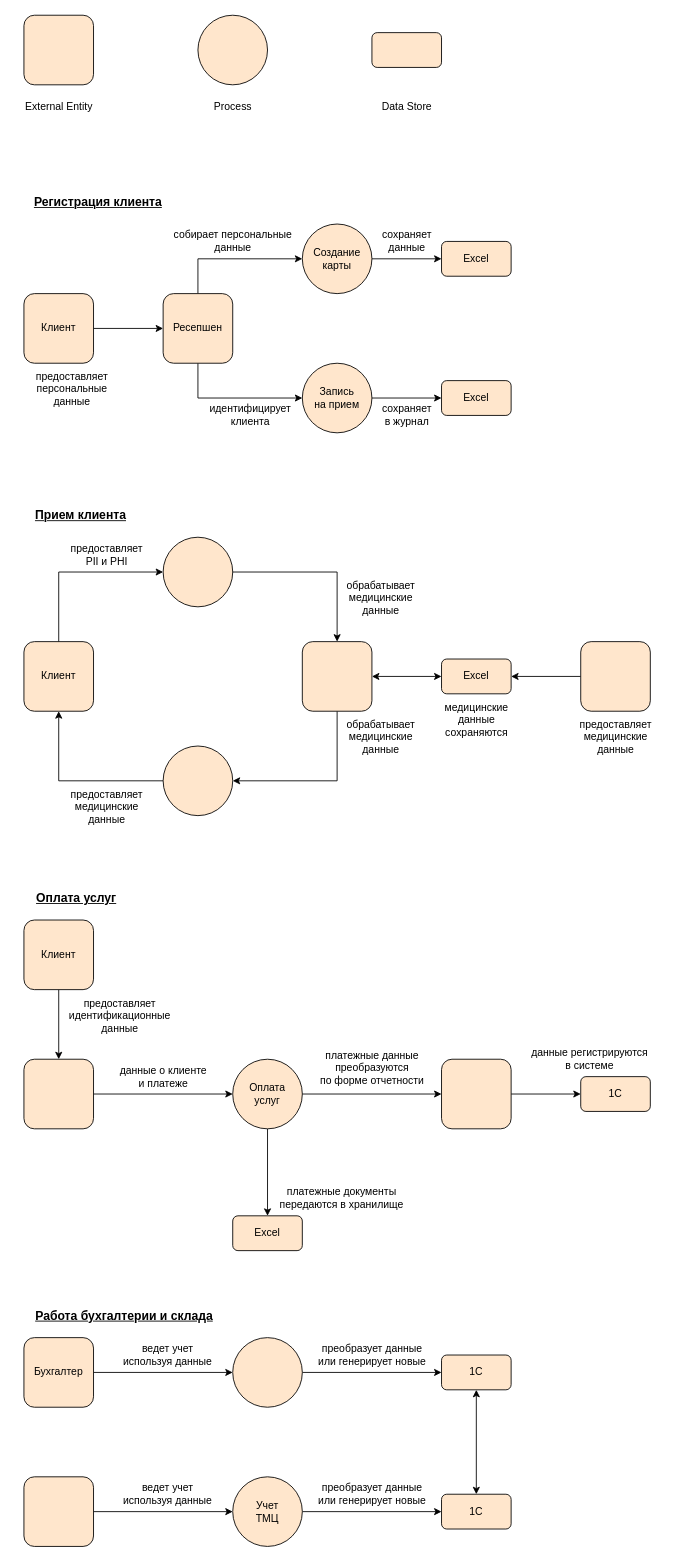
This 678x1562 diagram has some shape labels left out. The centre of each missing label's shape, as x and y in pixels:
Врач: point (336, 676)
Кассир: point (58, 1093)
ККМ: point (476, 1093)
Консультация (анамнез): point (197, 571)
Консультация (диагноз): point (197, 780)
Лаборатория: point (615, 676)
Товаровед: point (58, 1511)
Учет: point (267, 1372)
